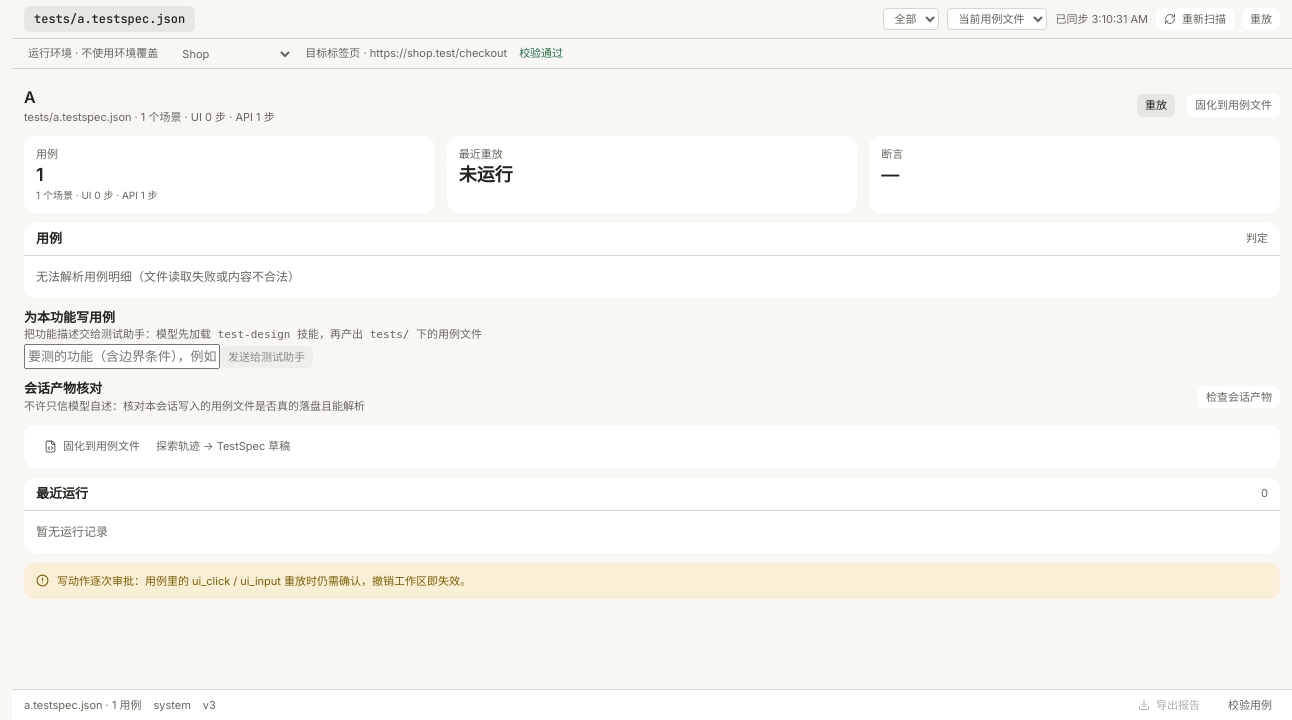
Test case: TestingView run flow › uses frozen plan metadata for batch coverage instead of the current scan
The image size is (1292, 720).
Click the button "重放" in the row of "已同步 3:10:31 AM": (1261, 19) [1242,8,1280,30]
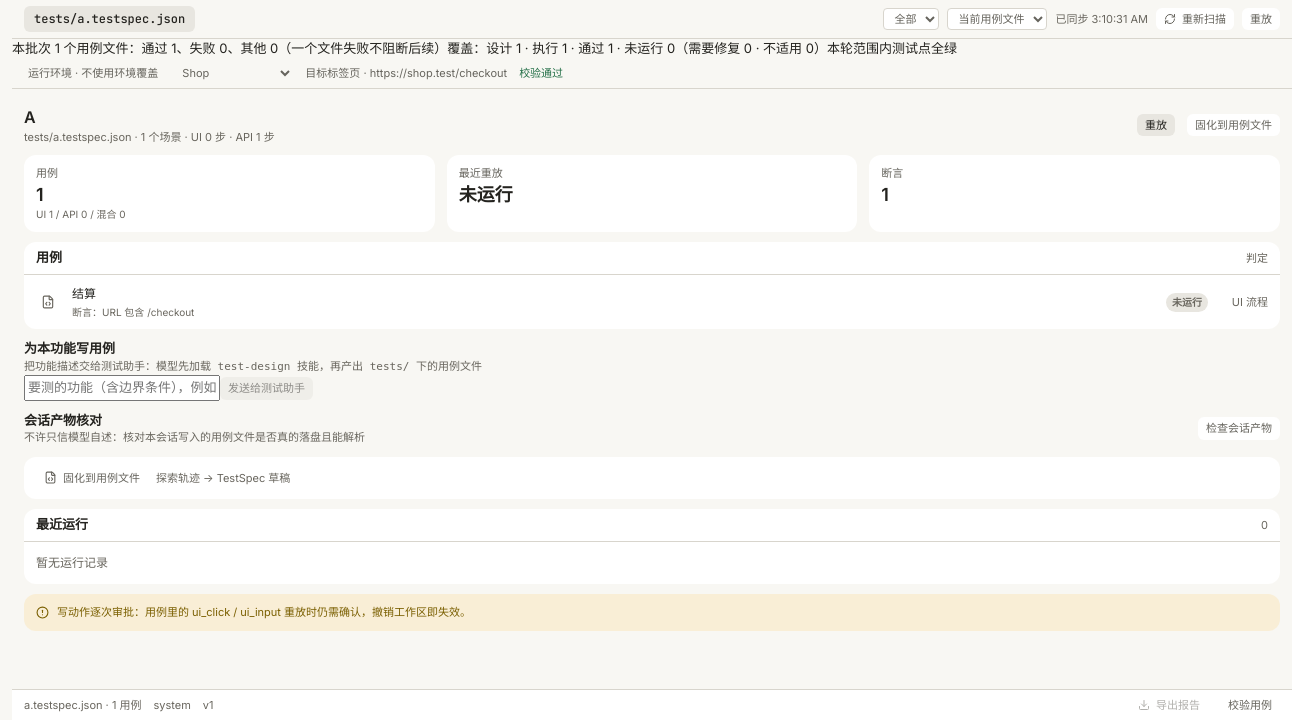
Expected: the text with test id "testing-coverage" shows "覆盖：设计 1 · 执行 1 · 通过 1 · 未运行 0", [447,40,827,56]
